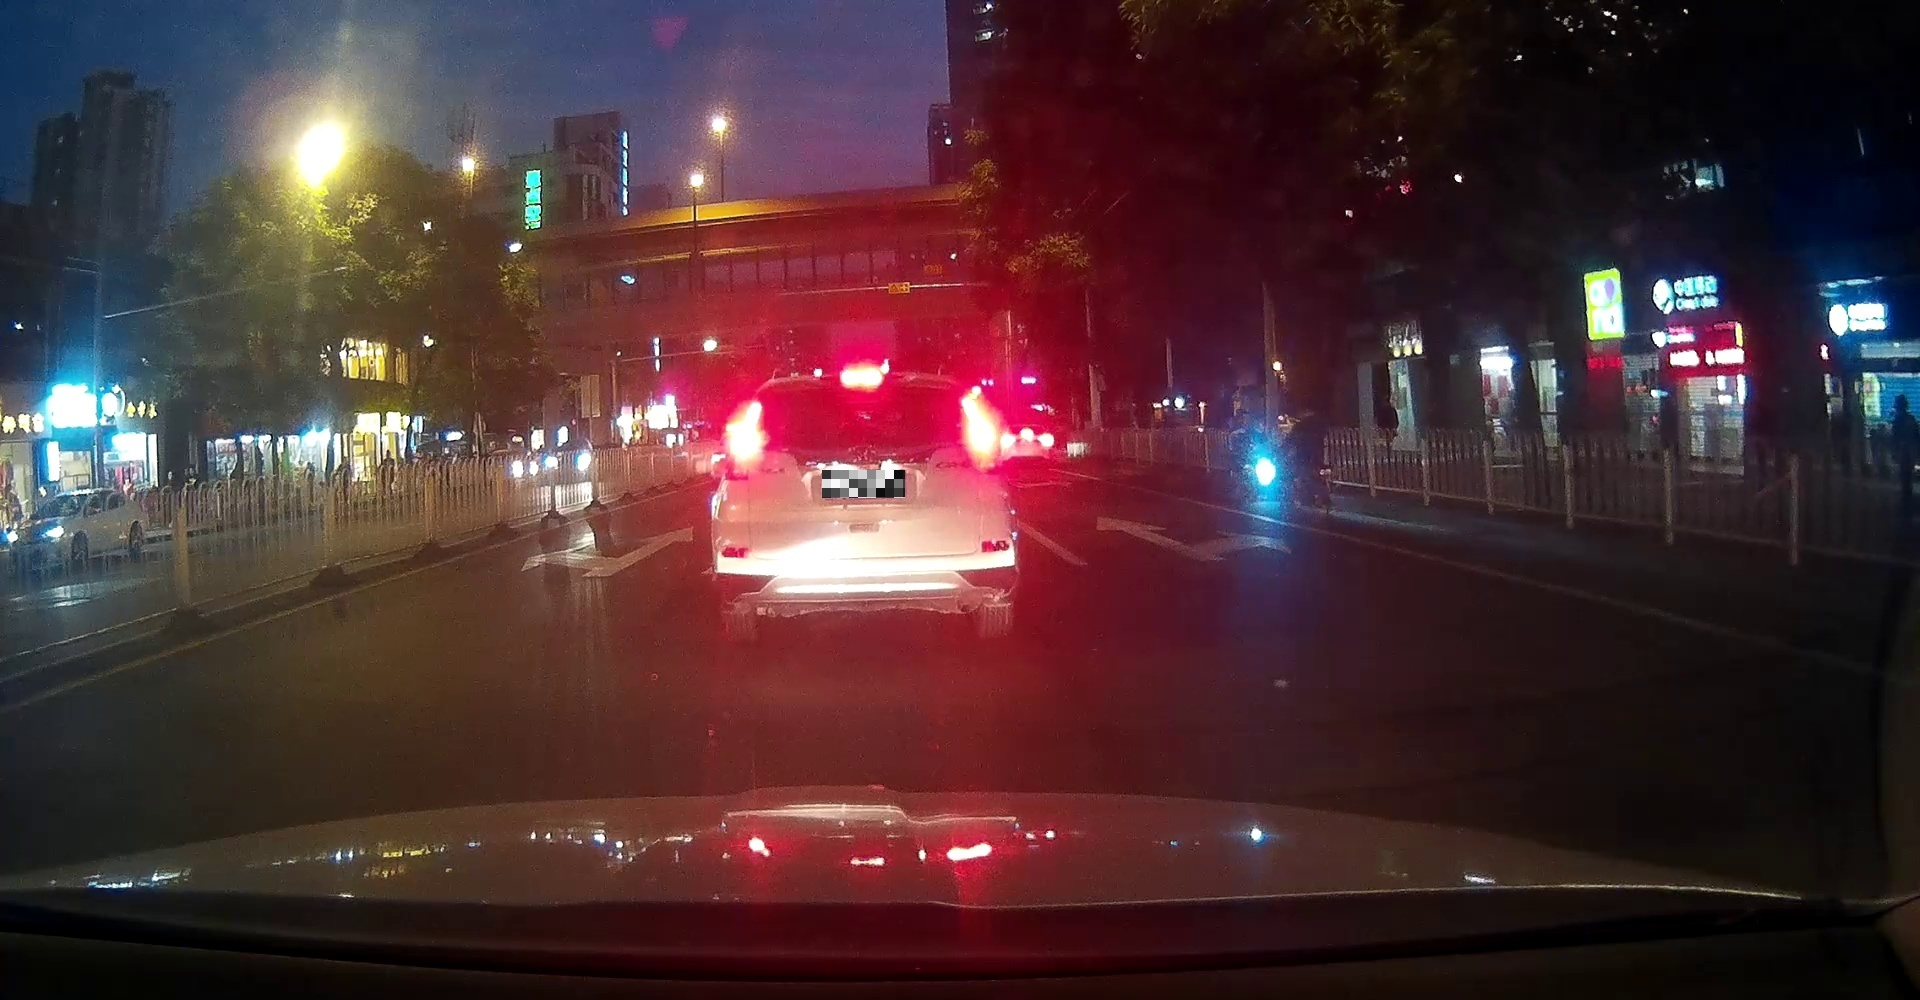L_light: (723, 463, 772, 482)
R_light: (963, 458, 1002, 477)
T_light: (841, 372, 884, 390)
night-brake: (712, 372, 1016, 646)
plate_1: (822, 470, 905, 497)
